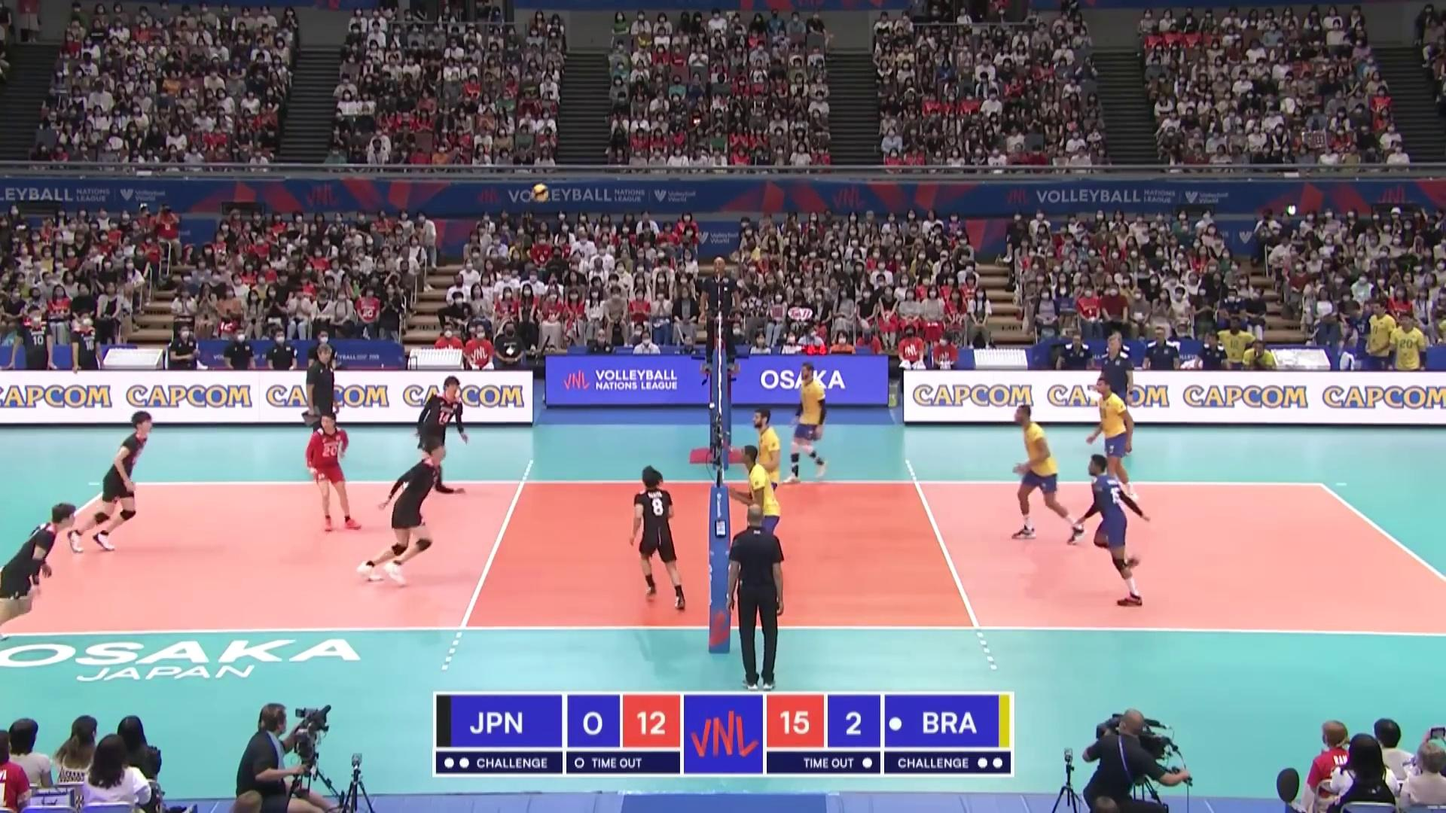player: (350, 440, 452, 584), (67, 411, 154, 552), (1078, 453, 1151, 607), (0, 502, 75, 642), (1011, 405, 1086, 542), (629, 464, 687, 612), (1087, 380, 1139, 504), (415, 378, 471, 493), (735, 448, 783, 582), (308, 409, 358, 532), (788, 362, 828, 484), (748, 406, 783, 545)
refree: (727, 504, 785, 690), (699, 257, 743, 381)
